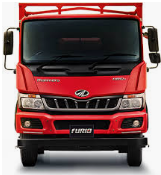truck: (1, 1, 161, 173)
